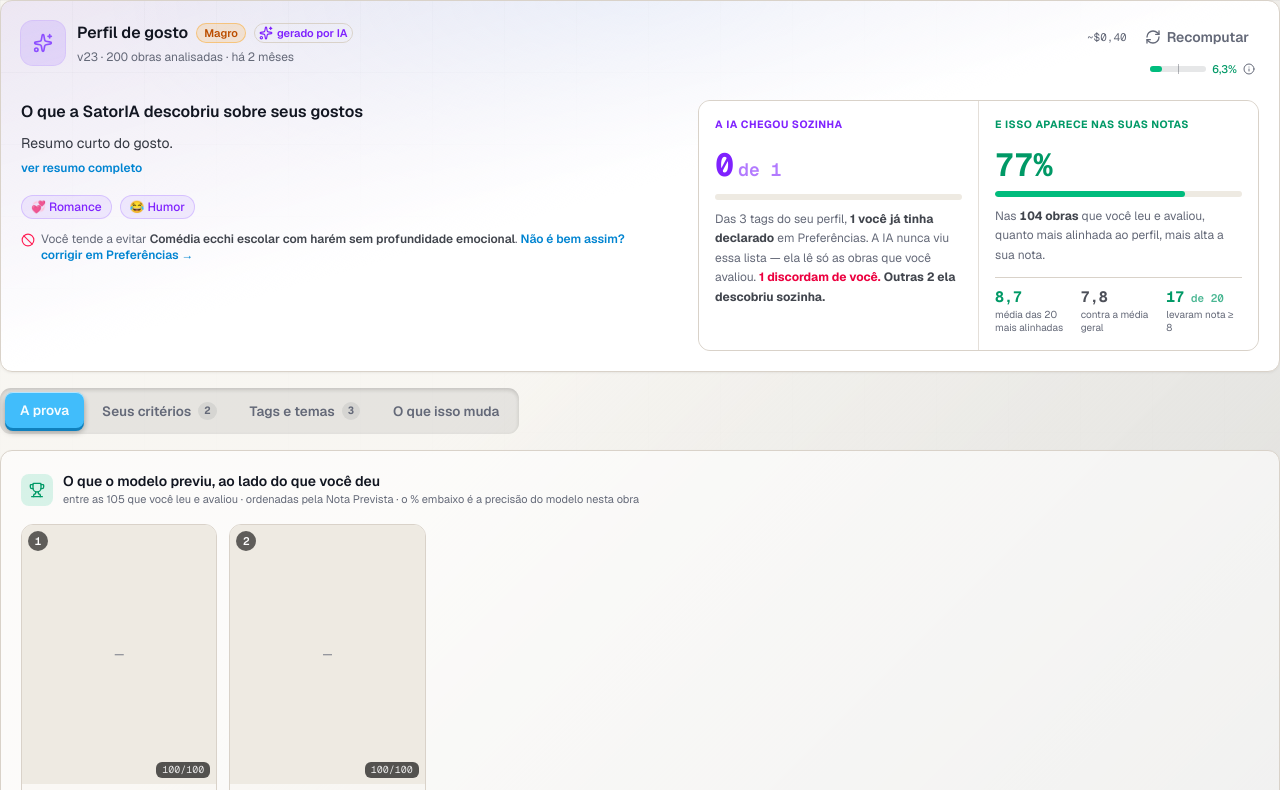
Test case: aba Tags e temas › mostra o balde de conflito quando os dois lados discordam
Step 1. Click the tab "Tags e temas 3" → (305, 411), box [235,393,375,429]
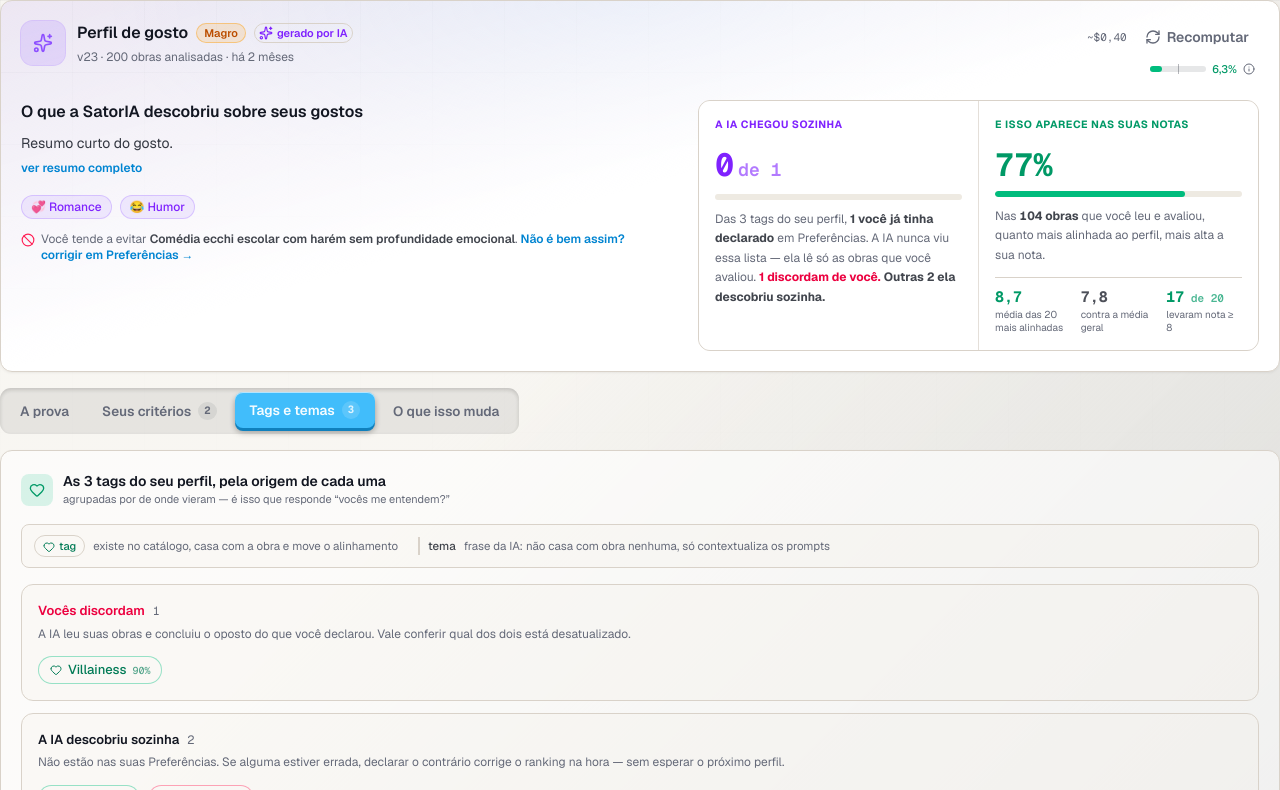
Check: the heading "Vocês discordam" is shown, box [38,601,145,621]
